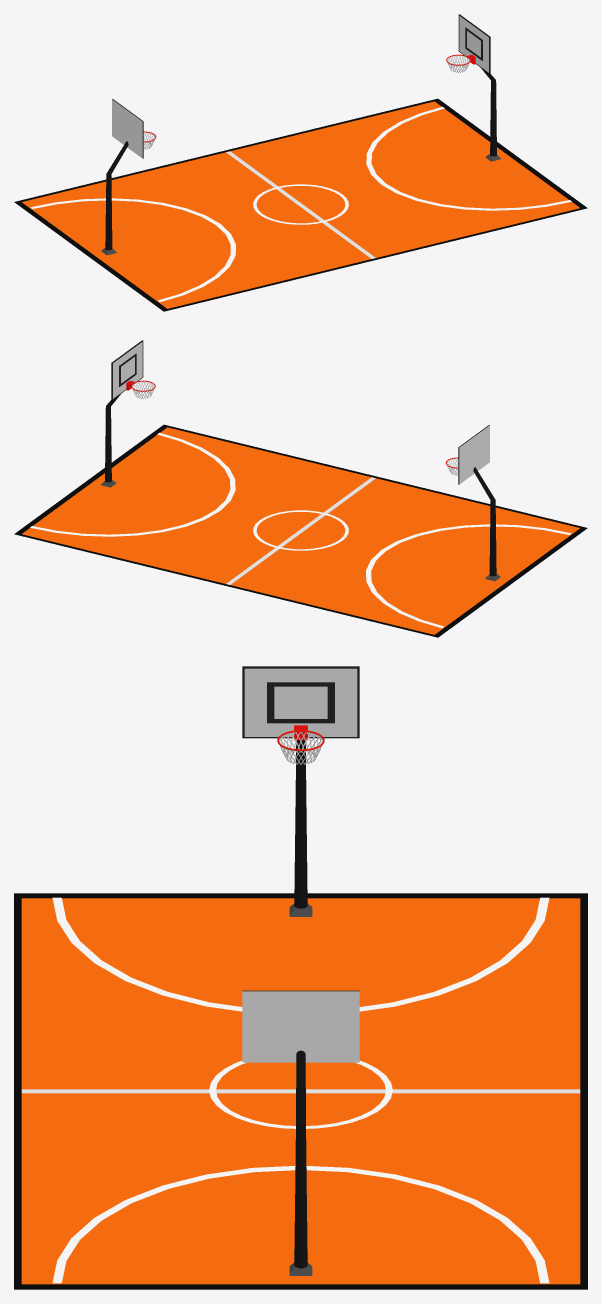
The model's file is basketball_court.glb.
3 renders of one model, top to bottom at view 1: azimuth 30°, elevation 25°; view 2: azimuth 150°, elevation 25°; view 3: azimuth 270°, elevation 25°, orthographic. The views are drawn at different scales.
Visible parts, largest first — view 1: Plane, Cube.002, Cube.001, Cylinder.002, Cylinder.003, Cylinder.001; view 2: Plane, Cube.002, Cube.001, Cylinder.002, Cylinder.003, Cylinder.001; view 3: Plane, Cube.001, Cube.002, Cylinder.002, Cylinder.003, Cylinder.001.
Boxes of the visible parts, bbox=[...] form: Plane: bbox=[14, 98, 587, 311]; Cube.002: bbox=[446, 14, 500, 161]; Cube.001: bbox=[101, 99, 156, 255]; Cylinder.002: bbox=[366, 106, 571, 210]; Cylinder.003: bbox=[30, 198, 235, 301]; Cylinder.001: bbox=[253, 184, 348, 224]; Plane: bbox=[14, 424, 587, 637]; Cube.002: bbox=[101, 340, 155, 487]; Cube.001: bbox=[445, 425, 500, 581]; Cylinder.002: bbox=[30, 432, 235, 536]; Cylinder.003: bbox=[366, 524, 571, 627]; Cylinder.001: bbox=[253, 510, 348, 550]; Plane: bbox=[14, 893, 587, 1289]; Cube.001: bbox=[242, 666, 359, 916]; Cube.002: bbox=[242, 990, 359, 1275]; Cylinder.002: bbox=[52, 1166, 549, 1283]; Cylinder.003: bbox=[52, 897, 549, 1011]; Cylinder.001: bbox=[209, 1061, 392, 1128].
Size of the model in its own units: 7.87 by 2.44 by 4.82.
